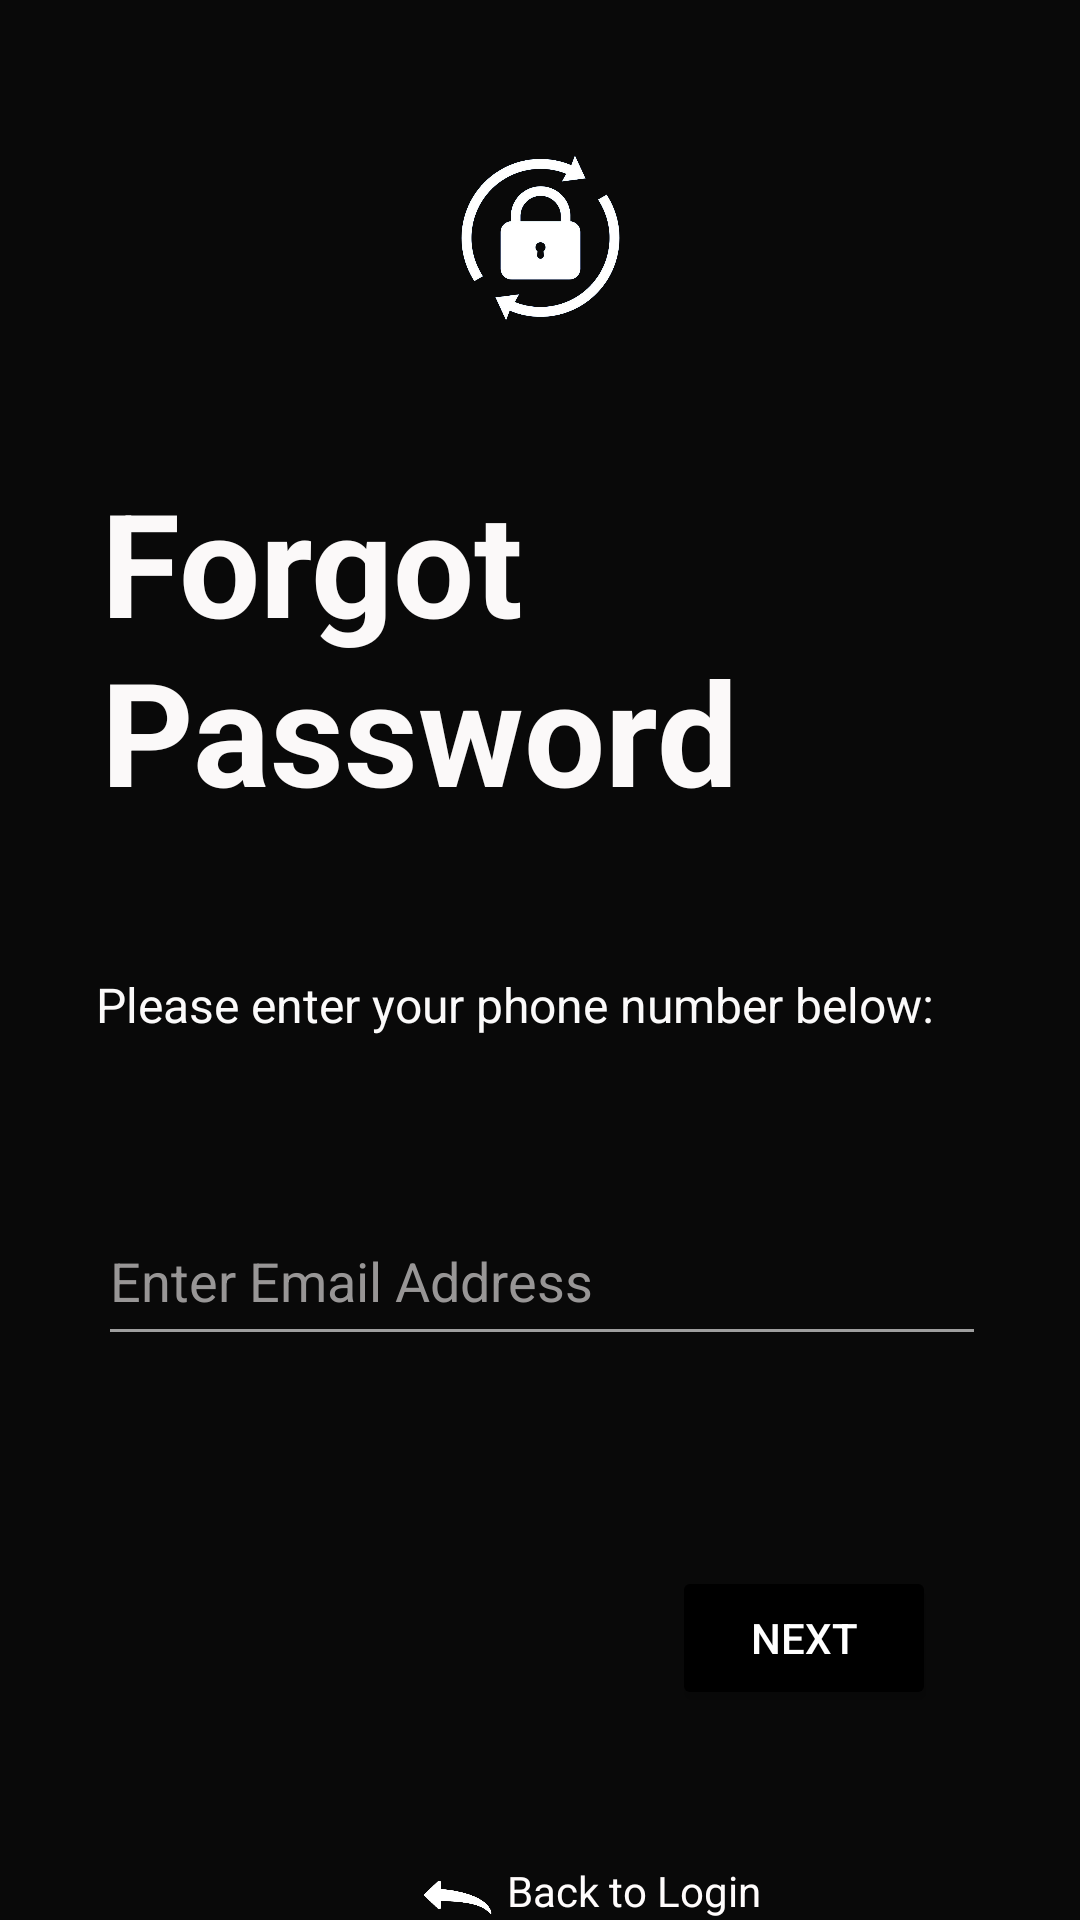

Where icons sit on this 1080x1920 app screen, as (x1, y1, x2, y2):
forgotpassic: (461, 156, 620, 320)
